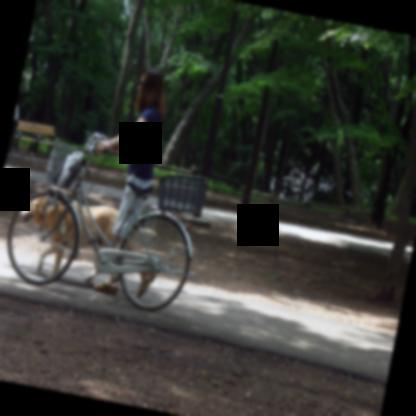handbag: (55, 151, 82, 188)
